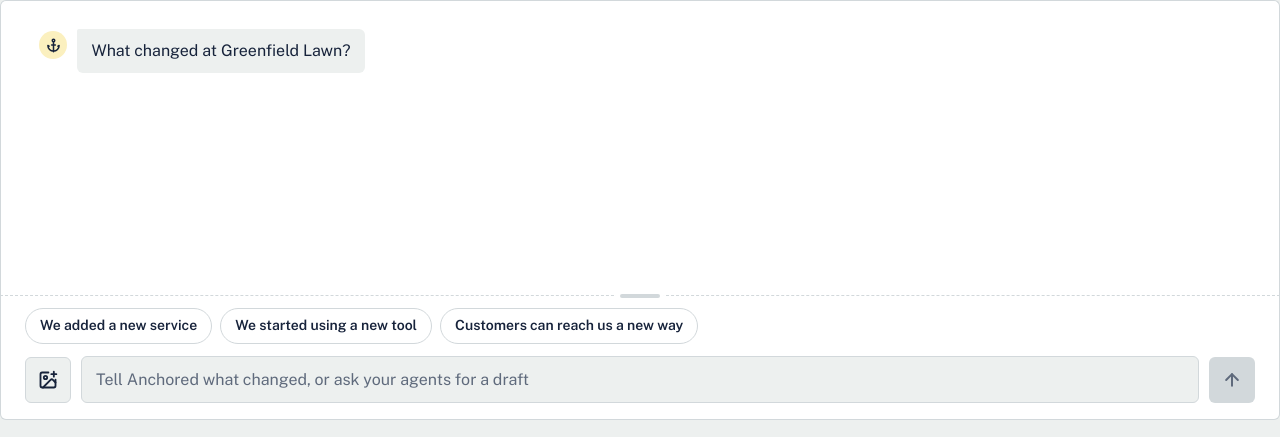
it: ChatWindow, business mode › links a reply that drafted work to its card in Approvals, and refreshes the approvals count
Expected: the element showing "What changed at Greenfield Lawn?" is shown, [39,29,365,73]
Step 1. Type "text Dana we're running 20 minutes late" into the text box named "Message Anchored" → x=640, y=379, box [81,356,1199,403]
Then press Enter
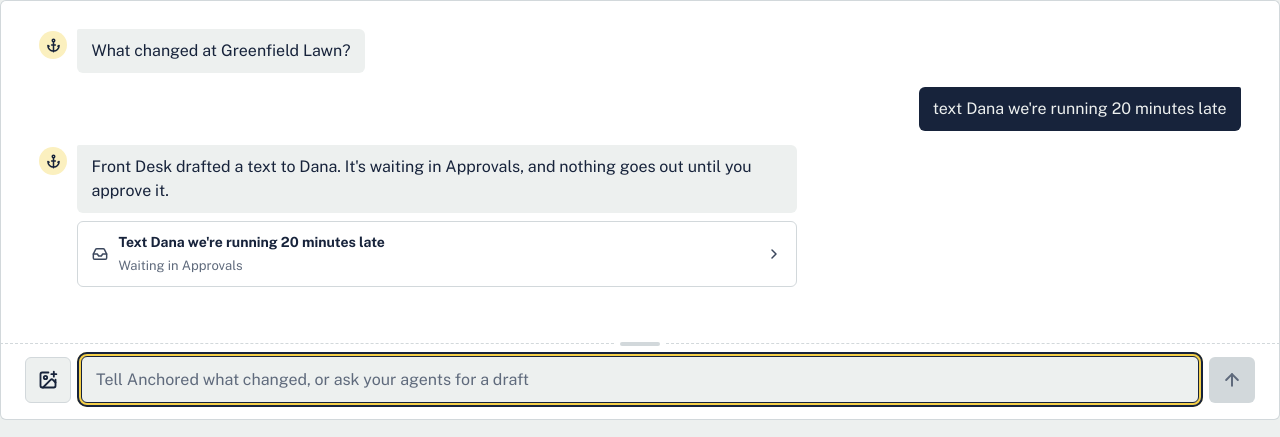
Expected: the element that starts with "What changed at Greenfield Lawn?" shows "Front Desk drafted a text to Dana", [91,157,752,200]
